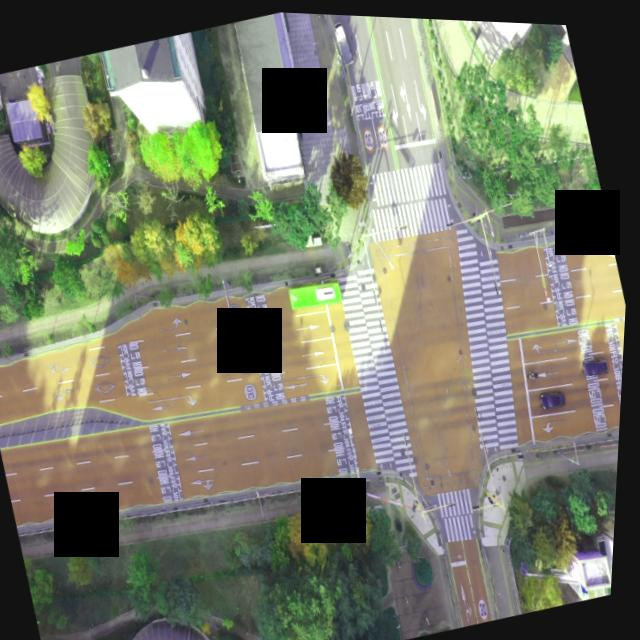car: (584, 345, 614, 373), (541, 382, 569, 405), (0, 75, 3, 104)
large_bus: (290, 273, 348, 312)
small_truck: (329, 16, 356, 64)
